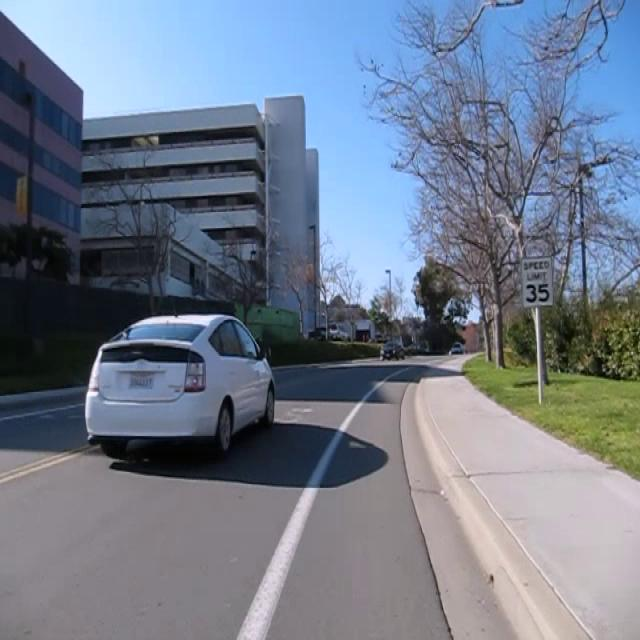speedLimit35: (520, 253, 554, 308)
